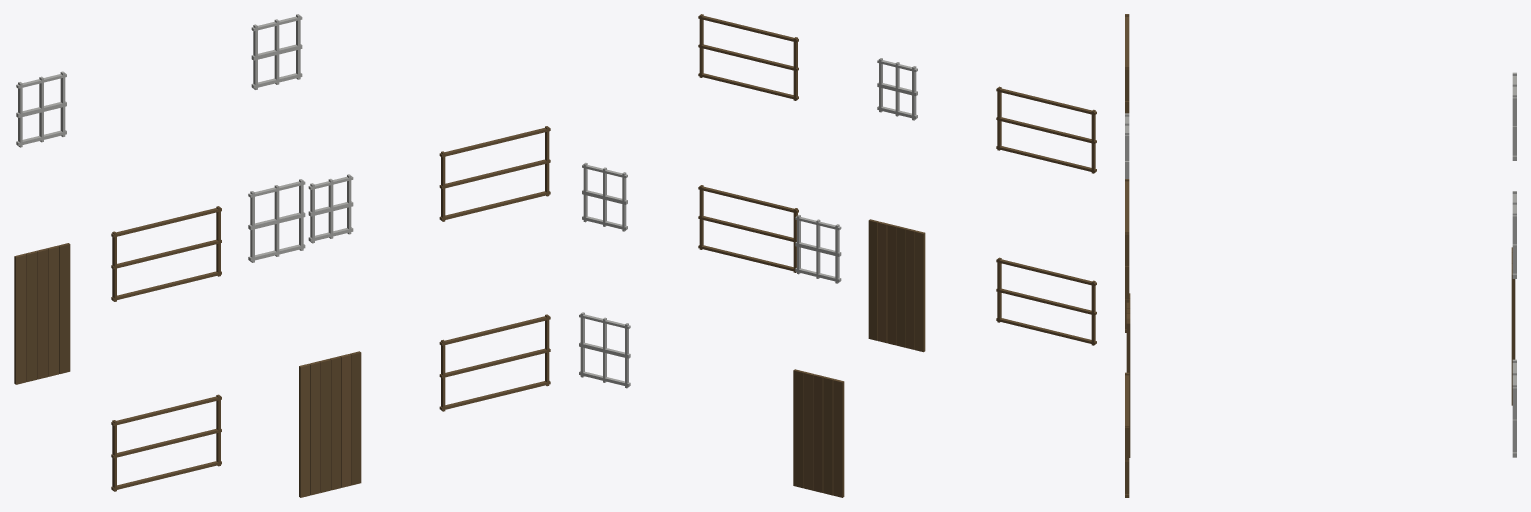
File: SM_Bld_244_Wood.glb
3 renders of one model, left to right at view 1: azimuth 30°, elevation 25°; view 2: azimuth 150°, elevation 25°; view 3: azimuth 270°, elevation 25°, orthographic. The views are drawn at different scales.
Parts seen in each view (by area): view 1: SM_Bld_244_Wood; view 2: SM_Bld_244_Wood; view 3: SM_Bld_244_Wood.
Boxes of the visible parts, x1=… form: SM_Bld_244_Wood: x1=14, y1=14, x2=550, y2=497; SM_Bld_244_Wood: x1=579, y1=14, x2=1096, y2=497; SM_Bld_244_Wood: x1=1125, y1=14, x2=1516, y2=497.
Bounding box in the file's own units: 7.18 × 4.88 × 5.42.
